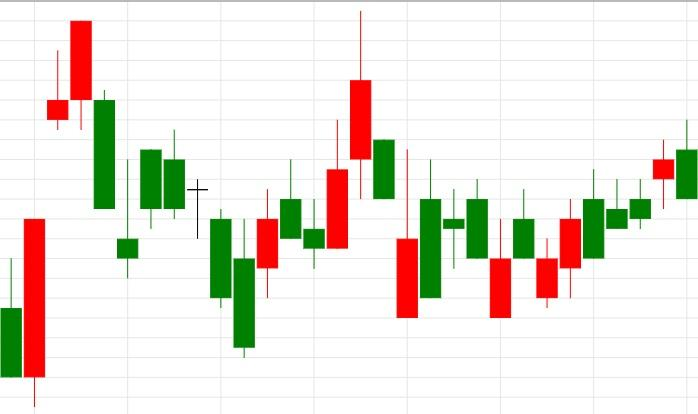shooting_star_fall: (0, 51, 69, 408)
